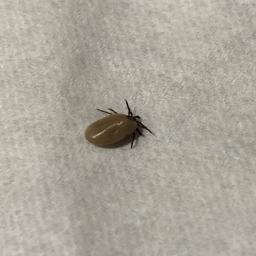Ixodes scapularis: (83, 99, 154, 150)
